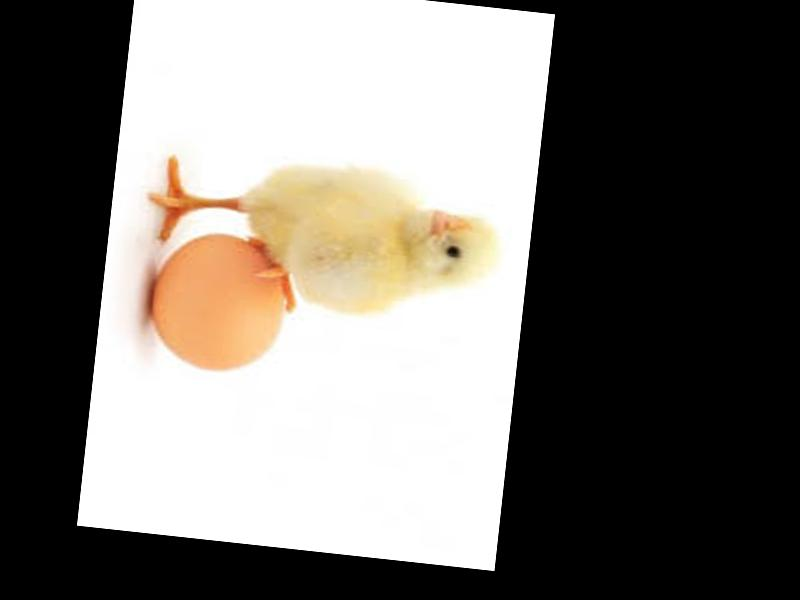Eggs: (145, 225, 297, 379)
